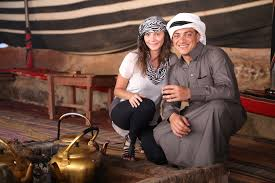middle_eastern_Female: (145, 27, 165, 51)
